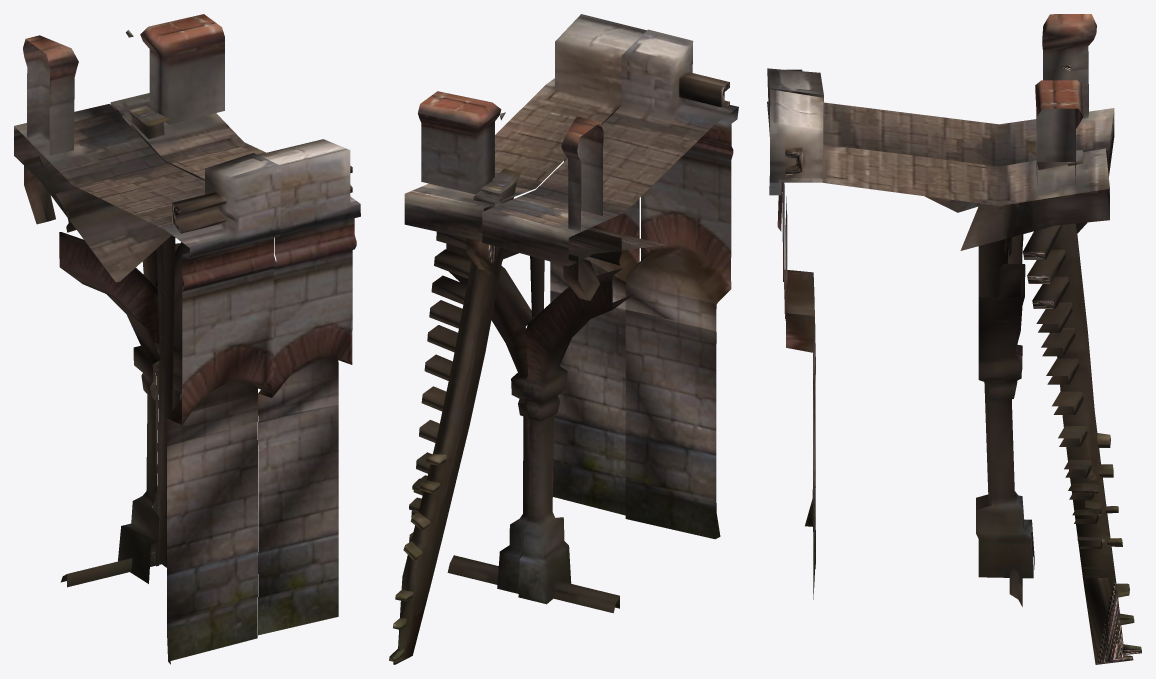
The model's file is WallRunFront_35.fbx.
3 renders of one model, left to right at view 1: azimuth 30°, elevation 25°; view 2: azimuth 150°, elevation 25°; view 3: azimuth 270°, elevation 25°, orthographic. The views are drawn at different scales.
Visible parts, largest first — view 1: Imported wall section.023; view 2: Imported wall section.023; view 3: Imported wall section.023.
Boxes of the visible parts, x1=… form: Imported wall section.023: x1=14, y1=14, x2=360, y2=664; Imported wall section.023: x1=389, y1=14, x2=738, y2=664; Imported wall section.023: x1=767, y1=14, x2=1141, y2=664.
Size of the model in its own units: 200 by 642 by 383.
1 material, 1 textured.
